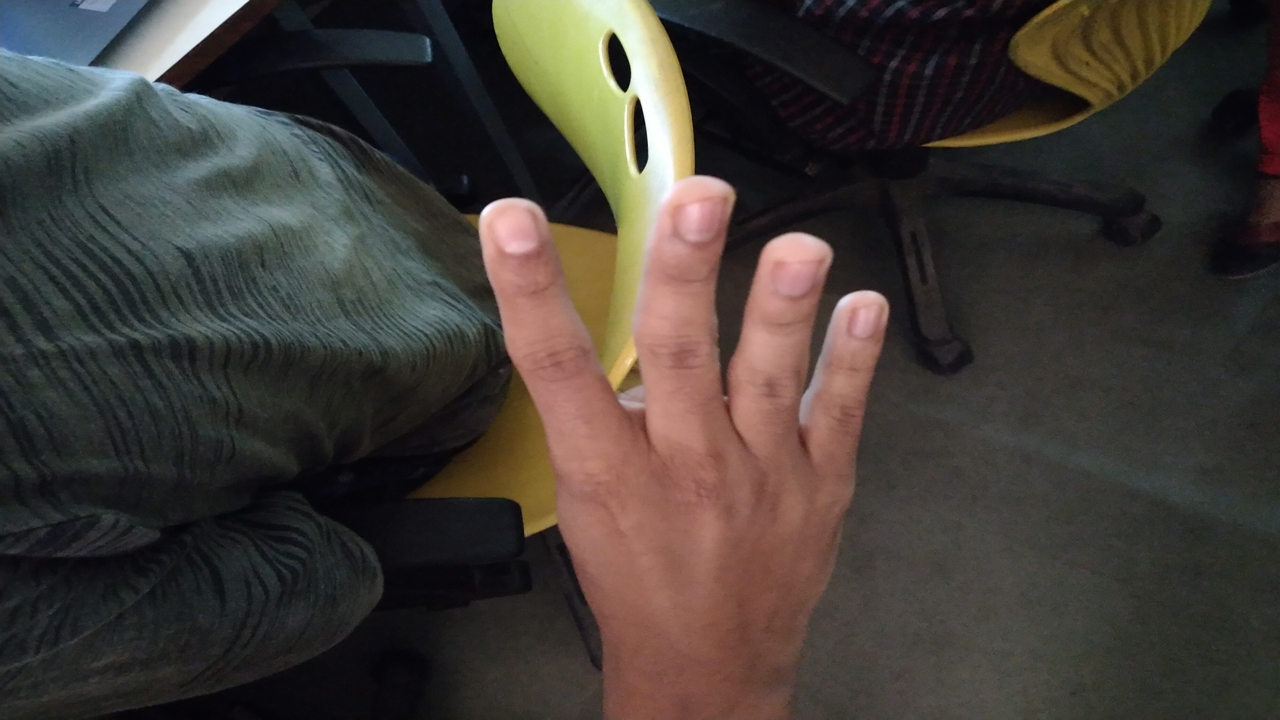fingertip: (750, 230, 846, 304), (644, 180, 742, 252), (468, 190, 556, 266), (832, 286, 892, 352)
